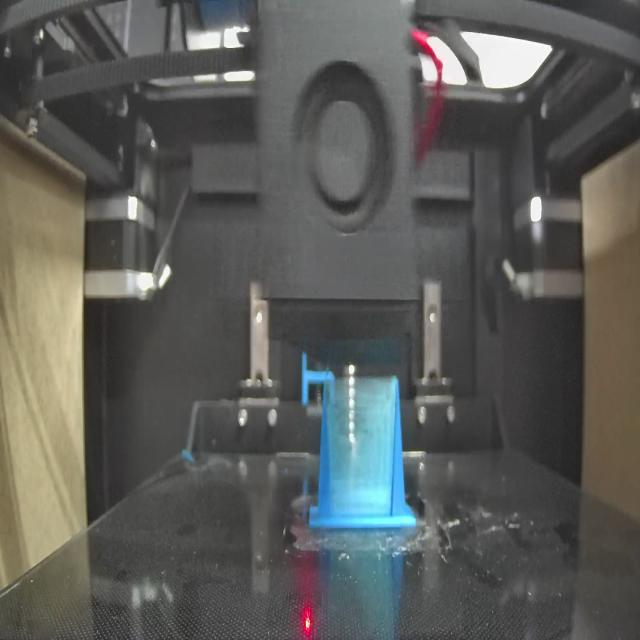stringing: (327, 380, 396, 515)
